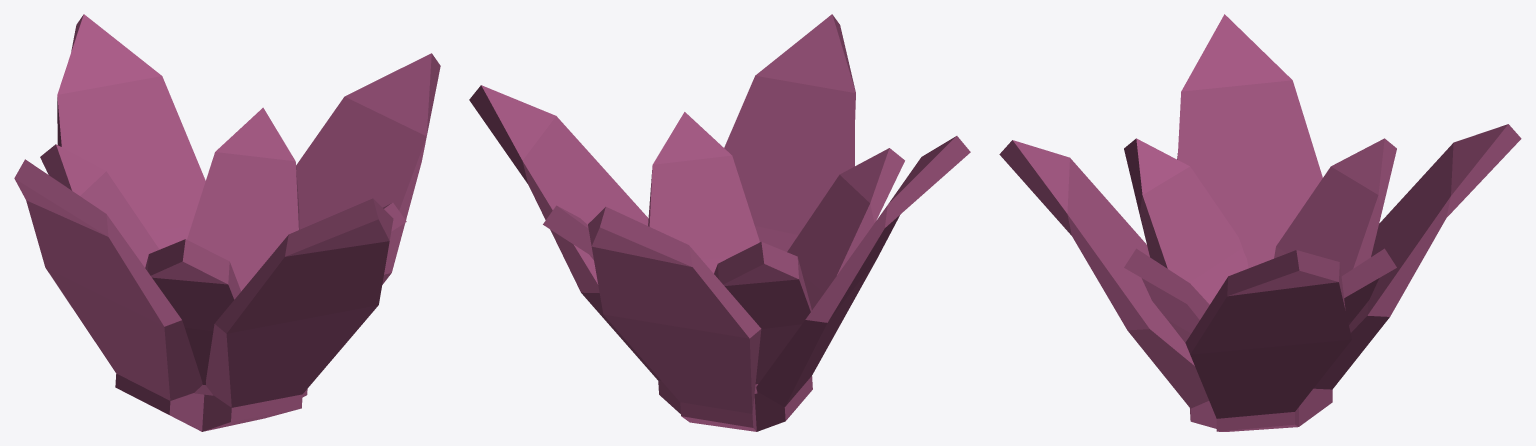
File: Cactus_Crop.gltf
3 renders of one model, left to right at view 1: azimuth 30°, elevation 25°; view 2: azimuth 150°, elevation 25°; view 3: azimuth 270°, elevation 25°, orthographic. The views are drawn at different scales.
Parts seen in each view (by area): view 1: Cactus_Crop; view 2: Cactus_Crop; view 3: Cactus_Crop.
Boxes of the visible parts, box(x1,y1,x2,y2) form: Cactus_Crop: box(14, 14, 440, 431); Cactus_Crop: box(469, 14, 970, 431); Cactus_Crop: box(999, 14, 1521, 431).
Size of the model in its own units: 0.3619 by 0.2362 by 0.366.
